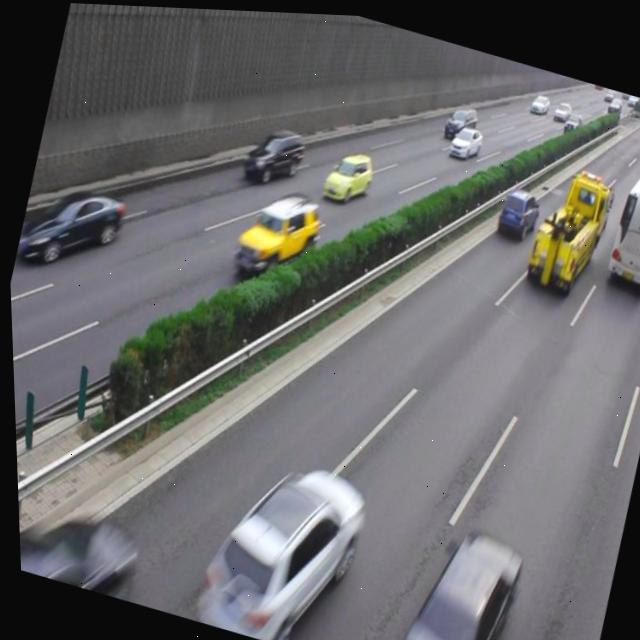bus: (517, 152, 612, 292)
car: (182, 438, 371, 640), (377, 507, 525, 640), (14, 484, 140, 599), (11, 171, 129, 283), (227, 175, 325, 289), (318, 140, 376, 201), (490, 178, 542, 240)
truck: (239, 116, 307, 191)
van: (599, 152, 640, 284)
